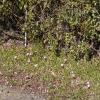Tree: (29, 2, 100, 55)
